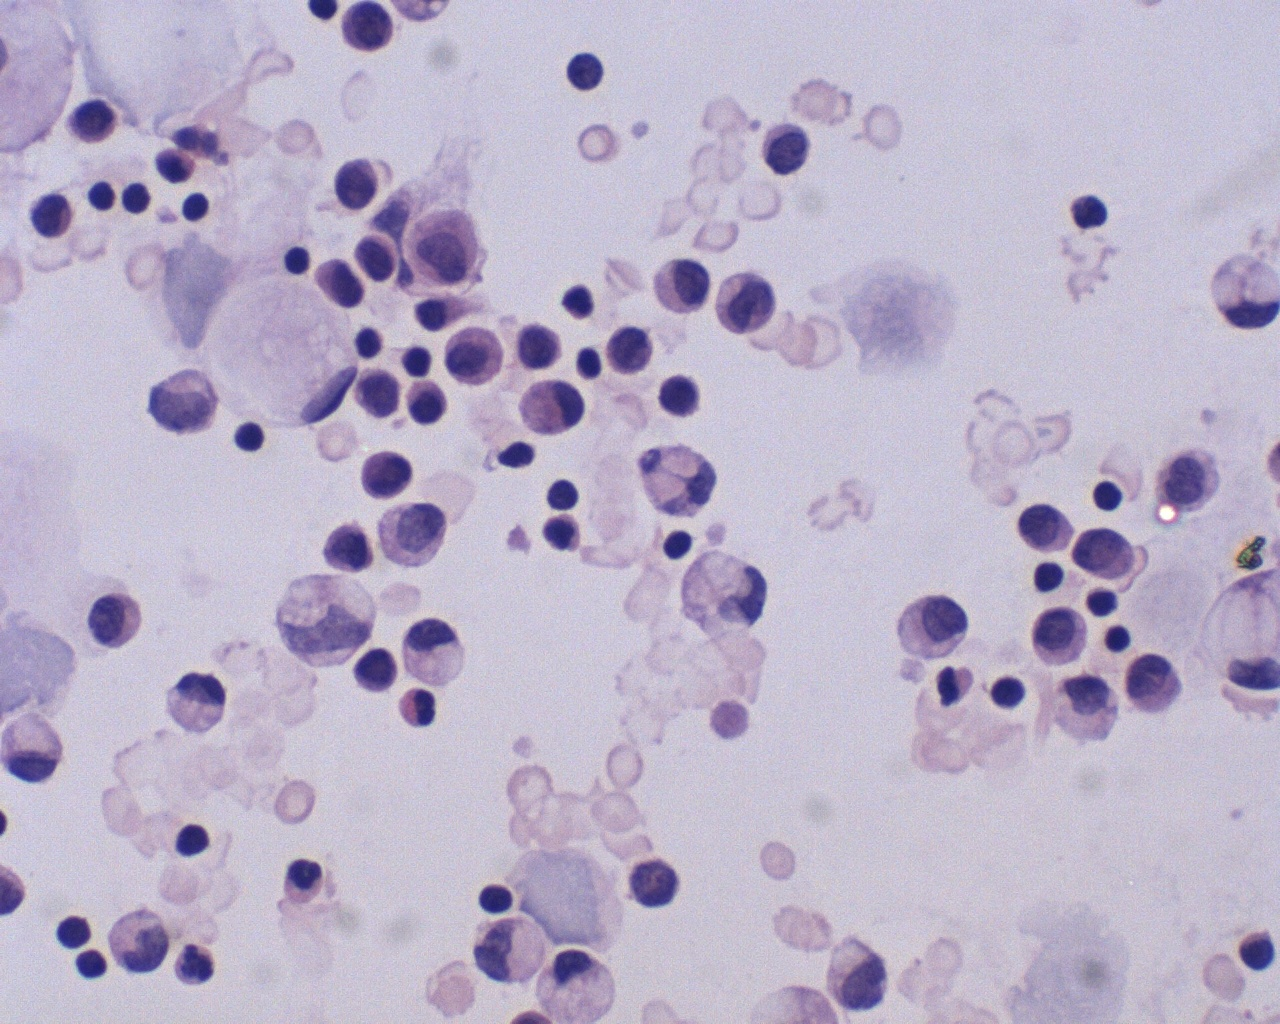ab: (403, 203, 488, 293), (897, 586, 968, 665), (373, 501, 451, 572), (709, 267, 786, 340), (825, 931, 892, 1013), (1071, 518, 1144, 585), (1123, 650, 1186, 720), (325, 153, 390, 215), (753, 117, 818, 180), (1016, 492, 1076, 556), (600, 319, 658, 381), (360, 446, 423, 503), (87, 584, 142, 648), (336, 1, 399, 54), (345, 642, 406, 695)
histo: (201, 270, 360, 427), (1204, 248, 1280, 338), (534, 945, 620, 1024), (3, 706, 69, 788), (392, 616, 466, 686), (165, 667, 238, 736)
lymph: (168, 819, 216, 865), (543, 473, 594, 515), (1238, 924, 1276, 975), (988, 672, 1027, 719), (661, 526, 703, 565), (83, 174, 121, 216), (171, 187, 215, 223), (474, 880, 517, 915), (228, 419, 269, 456), (1089, 478, 1127, 515), (73, 945, 110, 983)
meso: (440, 323, 512, 391), (514, 378, 589, 440), (1032, 601, 1096, 670)
neutro: (169, 939, 222, 995), (280, 856, 329, 912), (931, 662, 978, 712)
